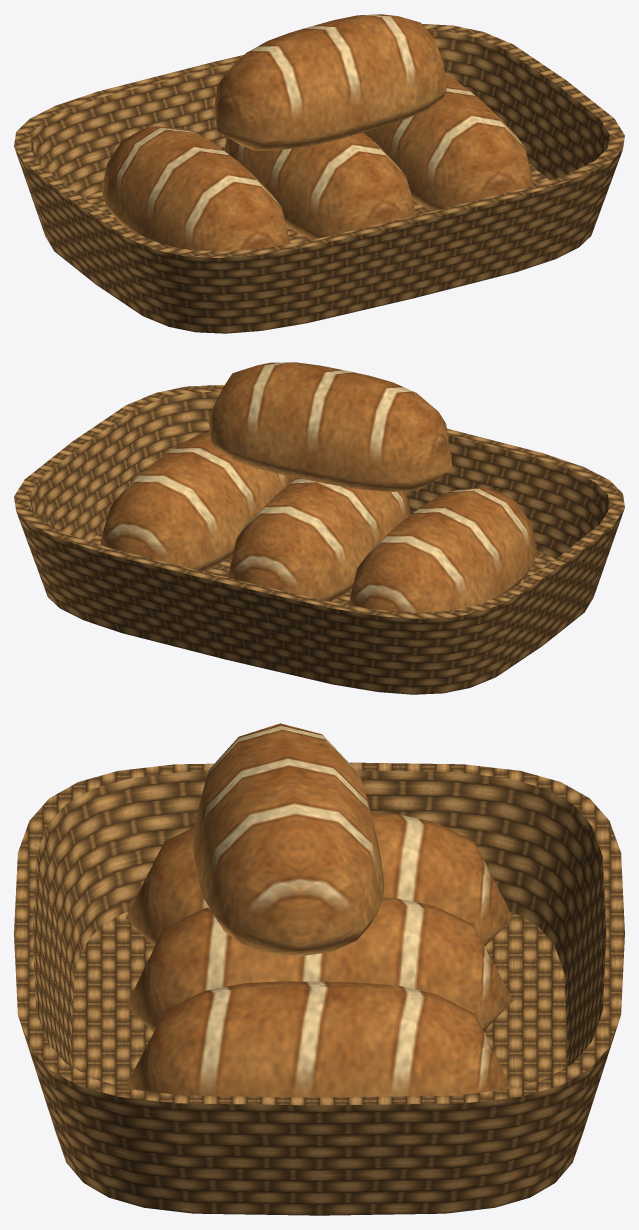
Rendered from sk_bakery_basket_bread.glb.
The picture shows the model from 3 angles, top to bottom: view 1: azimuth 30°, elevation 25°; view 2: azimuth 150°, elevation 25°; view 3: azimuth 270°, elevation 25°; orthographic projection. The views are drawn at different scales.
Parts seen in each view (by area): view 1: sk_bakery_basket_bread; view 2: sk_bakery_basket_bread; view 3: sk_bakery_basket_bread.
Part boxes in pixels (<box>): sk_bakery_basket_bread: <box>14,14,624,333</box>; sk_bakery_basket_bread: <box>14,362,624,694</box>; sk_bakery_basket_bread: <box>14,723,624,1215</box>.
Bounding box in the file's own units: 0.524 × 0.2122 × 0.394.
Materials: 2 (2 with a texture image).
